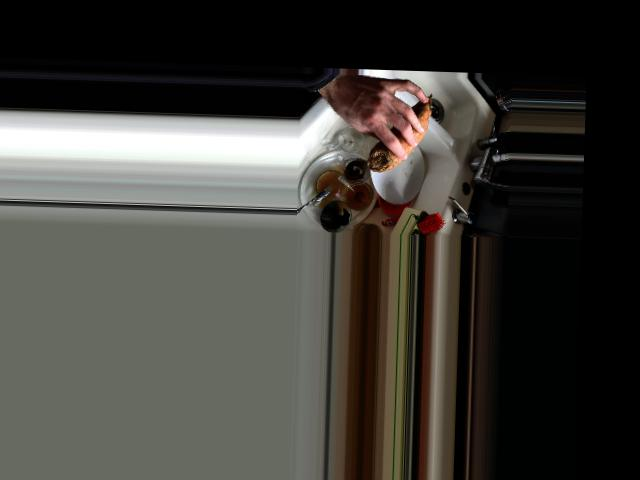sweet_potato: (368, 91, 432, 171)
